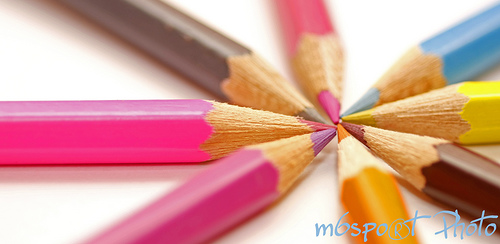pen_tip: (340, 119, 466, 193)
